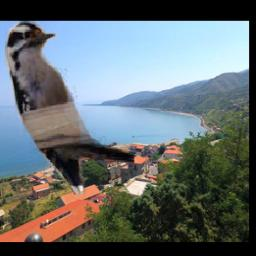Woodpecker: (5, 22, 134, 195)
